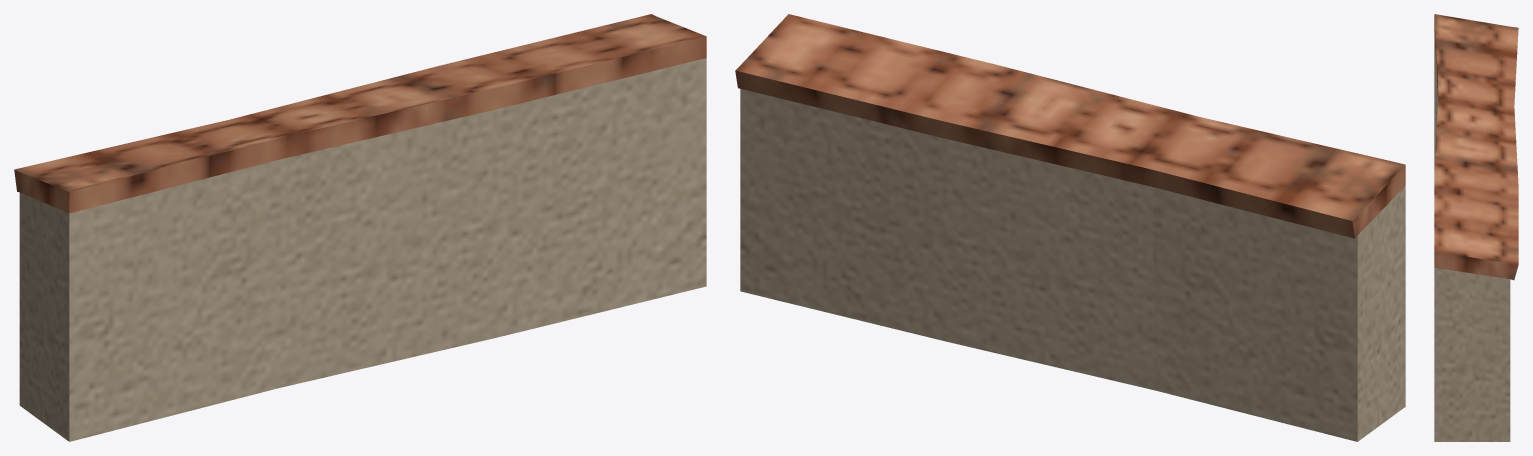
The model's file is plaster_wall.fbx.
3 views of the same model, side by side, from view 1: azimuth 30°, elevation 25°; view 2: azimuth 150°, elevation 25°; view 3: azimuth 270°, elevation 25° (orthographic). The views are drawn at different scales.
Visible parts, largest first — view 1: Body; view 2: Body; view 3: Body.
Part boxes in pixels (bbox=[...]): Body: bbox=[14, 14, 706, 441]; Body: bbox=[735, 14, 1405, 441]; Body: bbox=[1434, 14, 1518, 441].
Size of the model in its own units: 200 by 74.98 by 30.
